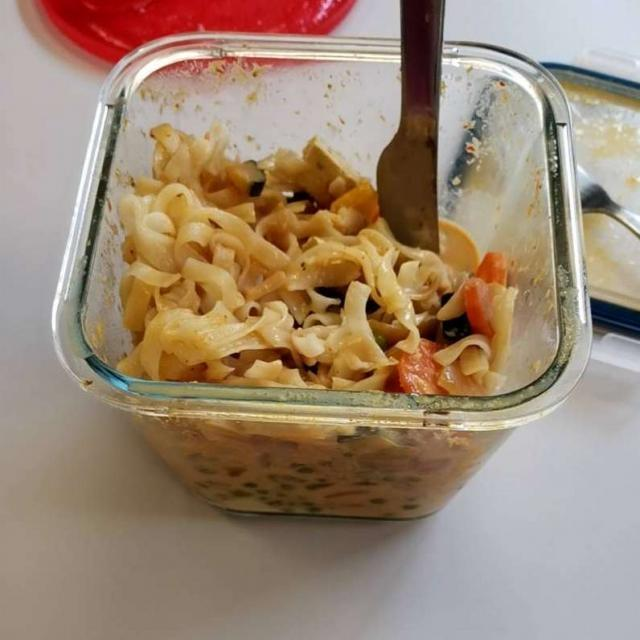noodles: (116, 130, 514, 392)
tofu: (282, 139, 350, 213)
